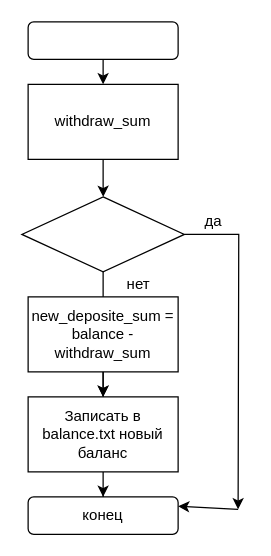
This 271x556 diagram has some shape labels left out. The shapes that lost their labels are listed below. From the top down, each one's centre as x and y in pixels, then its label:
pixel 102 40: начало
pixel 102 234: withdraw_sum < 0 || withdraw_sum > balance
